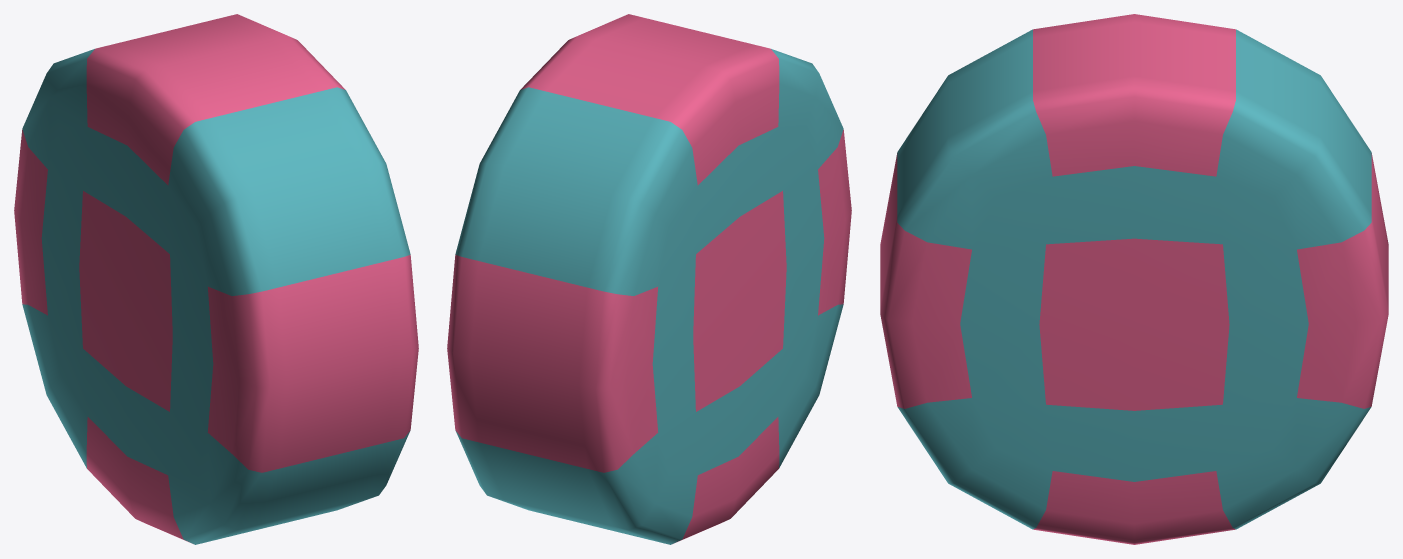
File: tire.fbx
3 views of the same model, side by side, from view 1: azimuth 30°, elevation 25°; view 2: azimuth 150°, elevation 25°; view 3: azimuth 270°, elevation 25° (orthographic).
Parts seen in each view (by area): view 1: pCube2; view 2: pCube2; view 3: pCube2.
Part boxes in pixels (left/top/right/bottom): pCube2: left=14, top=14, right=418, bottom=544; pCube2: left=447, top=14, right=851, bottom=544; pCube2: left=880, top=14, right=1388, bottom=544.
Size of the model in its own units: 0.00395 by 0.00937 by 0.00937.
